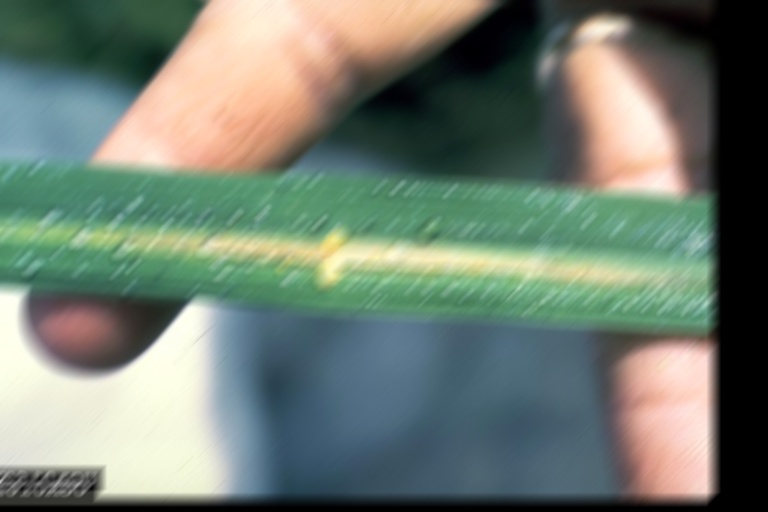Leaf_Blast: (0, 209, 674, 268)
